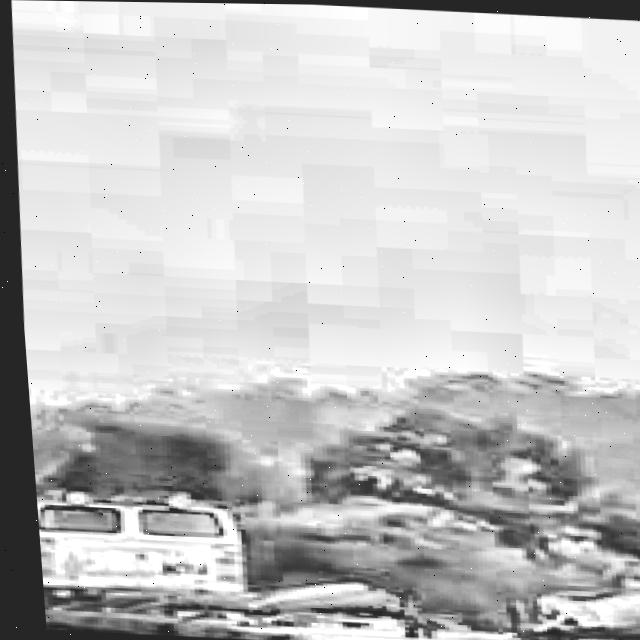Gerbong: (264, 617, 640, 640), (35, 606, 178, 636), (158, 615, 303, 640)
Lokomotif: (27, 466, 276, 640)
